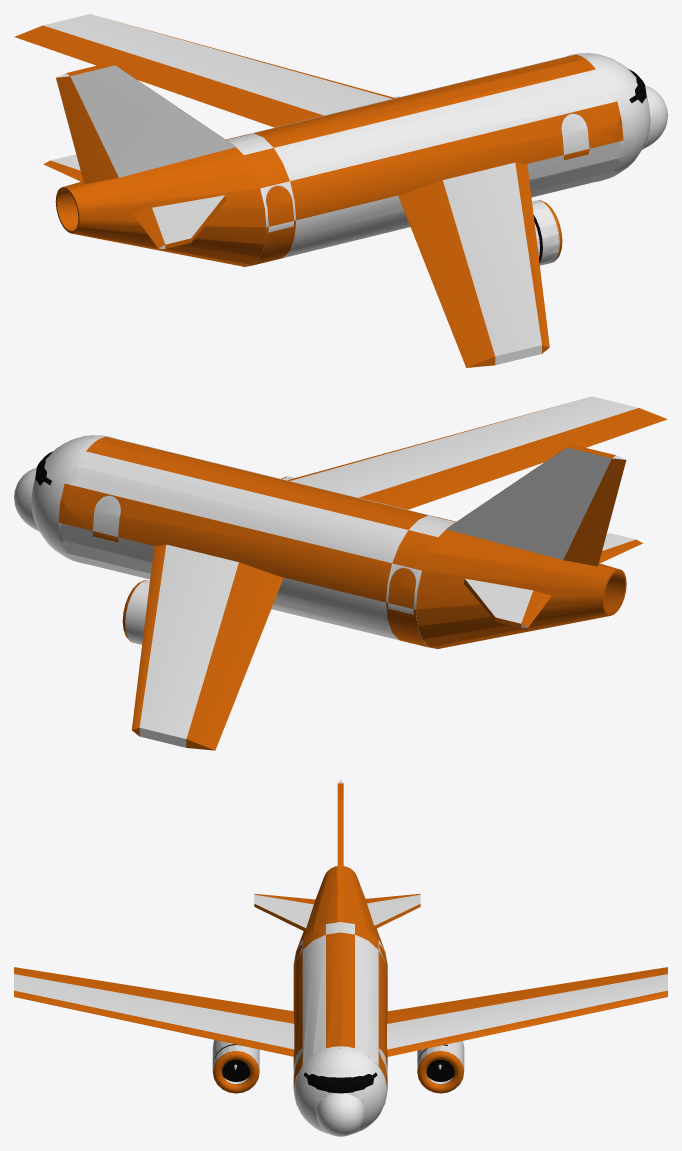
3 views of the same model, one above another, from view 1: azimuth 30°, elevation 25°; view 2: azimuth 150°, elevation 25°; view 3: azimuth 270°, elevation 25° (orthographic). The views are drawn at different scales.
Parts seen in each view (by area): view 1: polySurface11; view 2: polySurface11; view 3: polySurface11.
Part boxes in pixels (x1,y1,x2,y2): polySurface11: (14, 14, 667, 367); polySurface11: (14, 396, 667, 750); polySurface11: (14, 779, 667, 1136).
Size of the model in its own units: 21.61 by 7.88 by 27.86.
